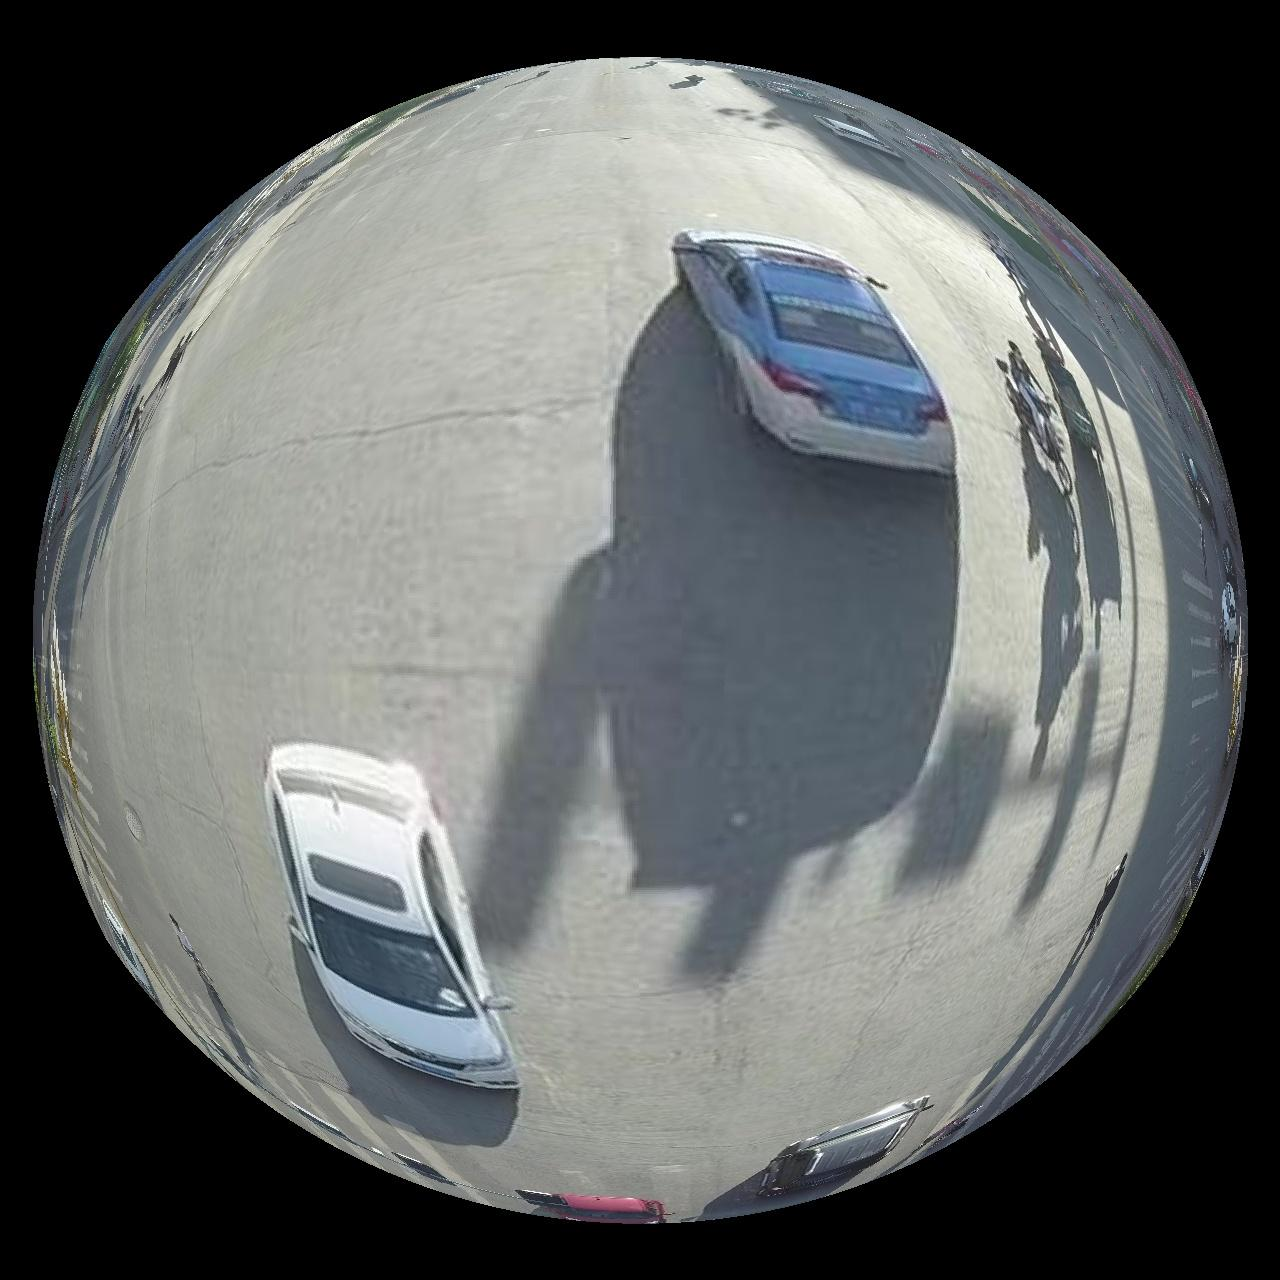cars: (266, 744, 519, 1089), (675, 231, 956, 474), (760, 1099, 931, 1199), (517, 1192, 665, 1226), (816, 115, 900, 156)
